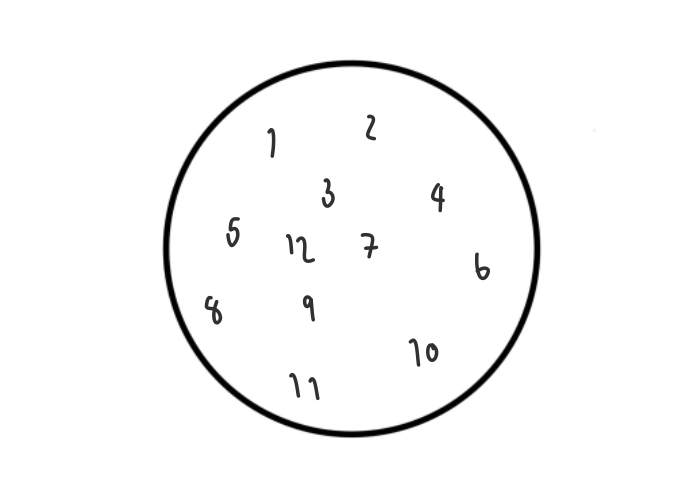eight: (203, 295, 223, 327)
eleven: (289, 372, 322, 402)
five: (224, 215, 241, 248)
four: (430, 181, 445, 213)
nine: (302, 294, 317, 322)
one: (264, 126, 278, 158)
seven: (358, 230, 380, 260)
six: (472, 250, 492, 280)
ten: (404, 337, 441, 368)
three: (319, 176, 337, 208)
twelve: (284, 233, 315, 265)
two: (364, 113, 378, 141)
